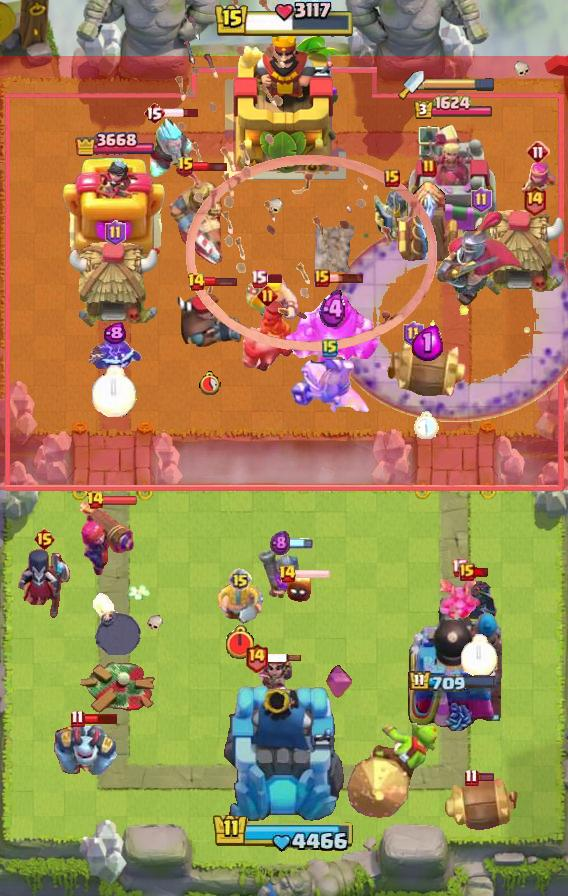archer: (518, 163, 558, 207)
bar: (82, 712, 119, 725), (193, 160, 228, 173), (294, 568, 331, 580), (328, 272, 365, 284), (163, 107, 200, 119), (277, 538, 313, 549), (102, 495, 138, 506), (203, 276, 238, 287), (266, 653, 302, 663), (264, 273, 284, 284), (476, 772, 495, 782), (473, 567, 490, 578)
bar-level: (244, 642, 269, 673), (522, 185, 547, 216), (228, 568, 252, 592), (526, 140, 550, 164), (33, 527, 56, 551), (403, 321, 424, 347), (105, 220, 126, 246), (471, 187, 492, 213), (143, 101, 165, 125), (257, 285, 278, 306), (278, 564, 297, 584), (86, 490, 105, 510), (187, 272, 206, 292), (177, 156, 195, 176), (451, 558, 468, 577), (250, 269, 267, 288), (322, 338, 338, 358), (421, 158, 437, 178), (459, 563, 475, 581), (314, 269, 330, 287), (384, 169, 400, 187), (464, 768, 479, 787), (70, 709, 85, 728)
barbarian: (246, 275, 300, 323)
barbarian-barrel: (385, 337, 469, 399), (441, 778, 521, 832)
bomb: (90, 593, 142, 655)
cannoneer-tower: (404, 593, 502, 731)
clock: (92, 365, 137, 417), (461, 634, 498, 677), (224, 625, 256, 661), (414, 411, 440, 440), (198, 371, 221, 395)
dagger-duchess-tower: (406, 122, 500, 256)
dagger-duchess-tower-bar: (424, 77, 496, 91)
dirt: (314, 222, 354, 272)
electro-spirit: (86, 333, 142, 373)
elite-barbarian: (216, 581, 264, 624)
elixir: (319, 290, 348, 329), (412, 325, 443, 361), (103, 322, 126, 345), (270, 530, 290, 556)
evolution-symbol: (325, 664, 353, 700)
fire-spirit: (285, 571, 313, 603)
firecracker-evolution: (76, 497, 136, 577)
guard: (372, 178, 412, 242)
hunter: (174, 287, 244, 349)
ice-wizard: (146, 117, 196, 181)
king-tower: (222, 31, 346, 181), (221, 682, 347, 826)
king-tower-bar: (212, 812, 356, 854), (213, 0, 355, 40)
little-prince: (250, 658, 294, 706)
mega-minion: (54, 717, 118, 775)
mini-pekka: (459, 577, 499, 629)
minion: (438, 572, 480, 620)
musketeer: (257, 547, 303, 603)
night-witch: (16, 547, 72, 623)
queen-tower: (62, 156, 166, 256)
ram-rider: (237, 298, 297, 372)
tesla: (395, 178, 463, 264)
tower-bar: (75, 129, 154, 160), (408, 670, 498, 694), (413, 95, 494, 121)
